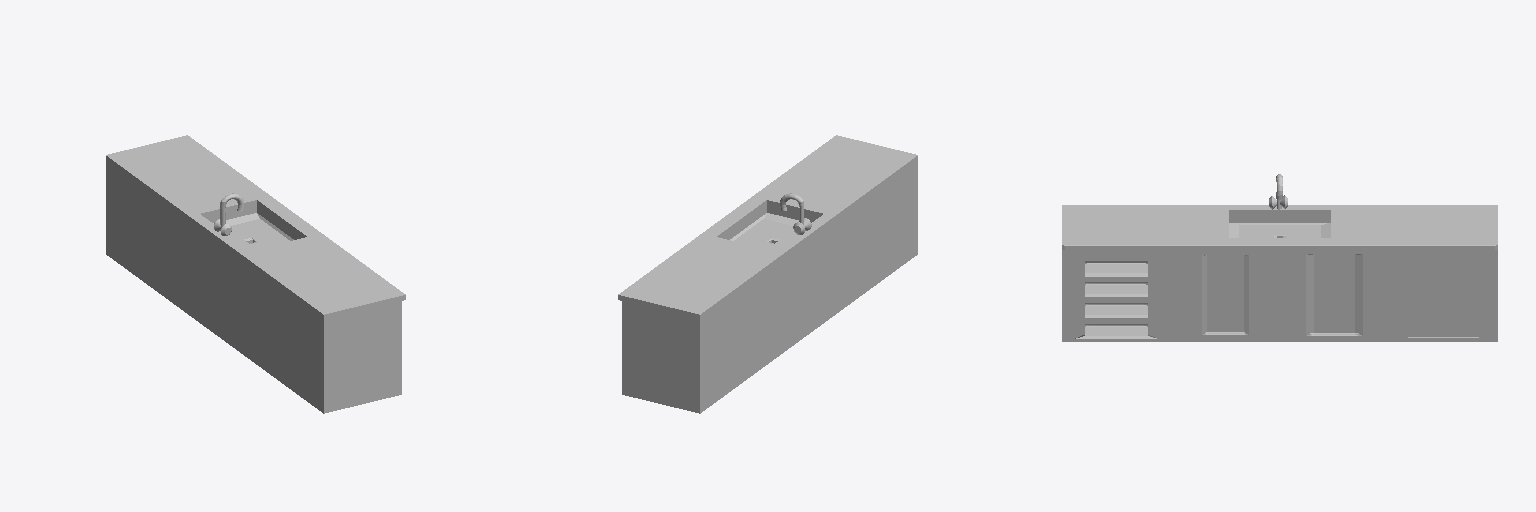
The model's file is keuken 1.obj.
The picture shows the model from 3 angles: view 1: azimuth 30°, elevation 25°; view 2: azimuth 150°, elevation 25°; view 3: azimuth 270°, elevation 25°; orthographic projection.
Visible parts, largest first — view 1: Cylinder.002; view 2: Cylinder.002; view 3: Cylinder.002.
Boxes of the visible parts, x1,y1,x2,y2 form: Cylinder.002: [106, 135, 405, 413]; Cylinder.002: [618, 135, 917, 413]; Cylinder.002: [1062, 174, 1497, 341].
Bounding box in the file's own units: 1.43 × 2.24 × 6.52.